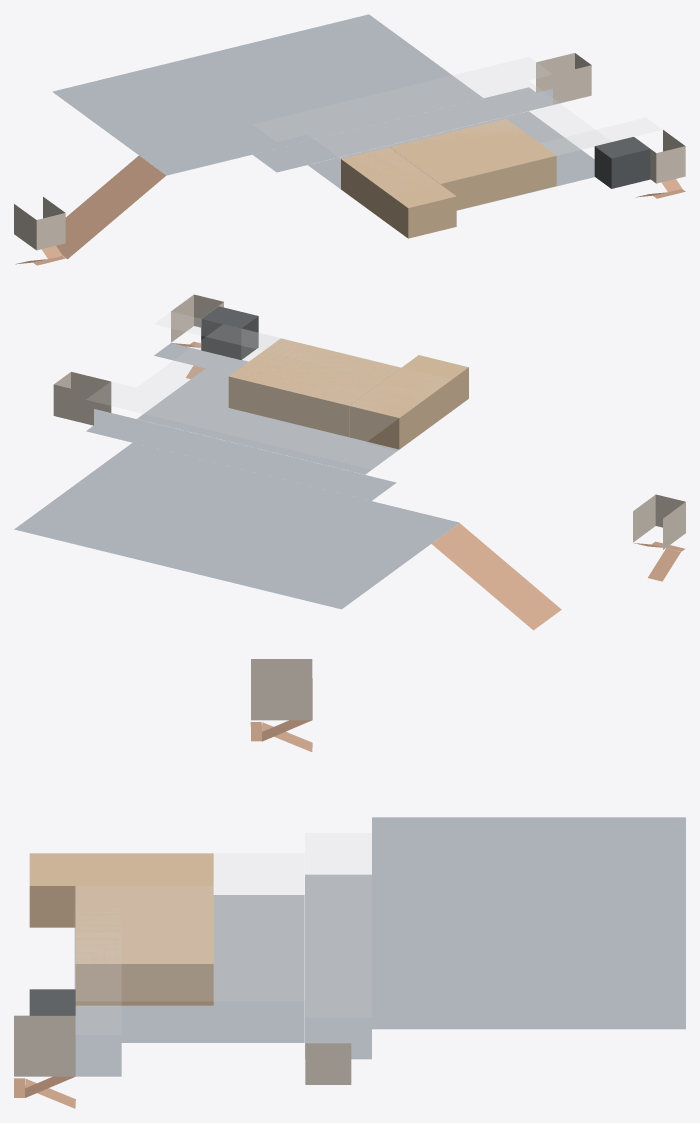
3 views of the same model, one above another, from view 1: azimuth 30°, elevation 25°; view 2: azimuth 150°, elevation 25°; view 3: azimuth 270°, elevation 25° (orthographic). The views are drawn at different scales.
Visible parts, largest first — view 1: 立方體.162, 立方體.163, 立方體.099, 立方體.161, 平面.002, 平面.003, 立方體.166, 立方體.174, 立方體.170, 立方體.167, 立方體.180, 平面 (+2 smaller); view 2: 立方體.162, 立方體.163, 立方體.099, 立方體.174, 立方體.161, 平面.002, 平面.003, 立方體.166, 立方體.170, 立方體.167, 立方體.180, 平面 (+3 smaller); view 3: 立方體.162, 立方體.163, 立方體.174, 立方體.099, 平面.003, 平面.002, 立方體.161, 立方體.177, 立方體.180, 平面, 立方體.167, 平面.001 (+1 smaller).
Part boxes in pixels (bbox=[...]): 立方體.162: bbox=[52, 14, 483, 175]; 立方體.163: bbox=[309, 81, 610, 158]; 立方體.099: bbox=[390, 119, 556, 210]; 立方體.161: bbox=[341, 147, 456, 238]; 平面.002: bbox=[253, 87, 552, 172]; 平面.003: bbox=[253, 57, 552, 141]; 立方體.166: bbox=[56, 155, 165, 259]; 立方體.174: bbox=[308, 111, 594, 210]; 立方體.170: bbox=[594, 137, 650, 188]; 立方體.167: bbox=[536, 53, 591, 104]; 立方體.180: bbox=[14, 197, 65, 250]; 平面: bbox=[541, 118, 661, 154]; 立方體.162: bbox=[14, 443, 459, 609]; 立方體.163: bbox=[138, 325, 449, 442]; 立方體.099: bbox=[228, 338, 400, 437]; 立方體.174: bbox=[137, 356, 398, 474]; 立方體.161: bbox=[349, 355, 468, 449]; 平面.002: bbox=[86, 413, 396, 500]; 平面.003: bbox=[87, 382, 395, 468]; 立方體.166: bbox=[431, 523, 561, 630]; 立方體.170: bbox=[201, 306, 258, 359]; 立方體.167: bbox=[53, 372, 111, 425]; 立方體.180: bbox=[633, 494, 685, 549]; 平面: bbox=[155, 312, 279, 350]; 立方體.162: bbox=[372, 817, 685, 1029]; 立方體.163: bbox=[75, 854, 303, 1000]; 立方體.174: bbox=[74, 895, 304, 1042]; 立方體.099: bbox=[75, 886, 213, 1005]; 平面.003: bbox=[305, 833, 371, 1016]; 平面.002: bbox=[305, 874, 371, 1059]; 立方體.161: bbox=[29, 853, 213, 927]; 立方體.177: bbox=[14, 1015, 75, 1076]; 立方體.180: bbox=[251, 659, 312, 720]; 平面: bbox=[76, 933, 120, 1034]; 立方體.167: bbox=[305, 1043, 351, 1084]; 平面.001: bbox=[75, 1006, 121, 1076].
Size of the model in its own units: 59.27 by 8.89 by 43.79.
